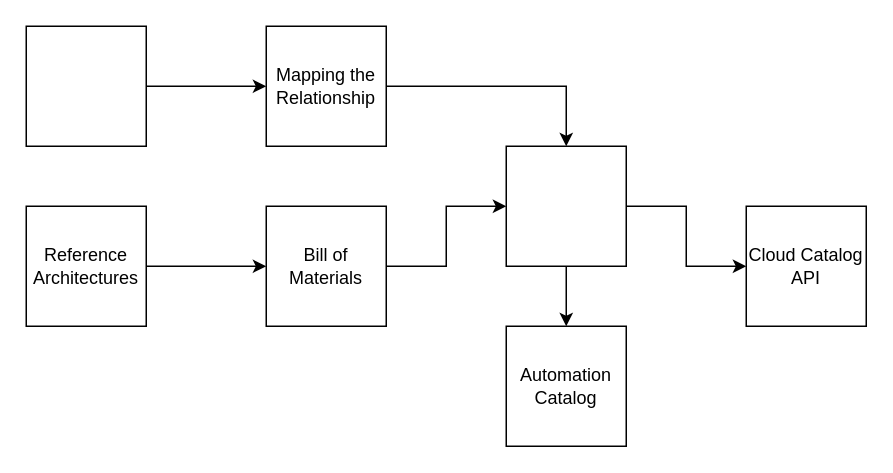
Some shapes in this 893 by 473 pixel diagram are drawn without their labels. The centre of each missing label's shape, as x and y in pixels:
"Cloud Services" belongs at (565,205).
"FS Controls" belongs at (85,85).
